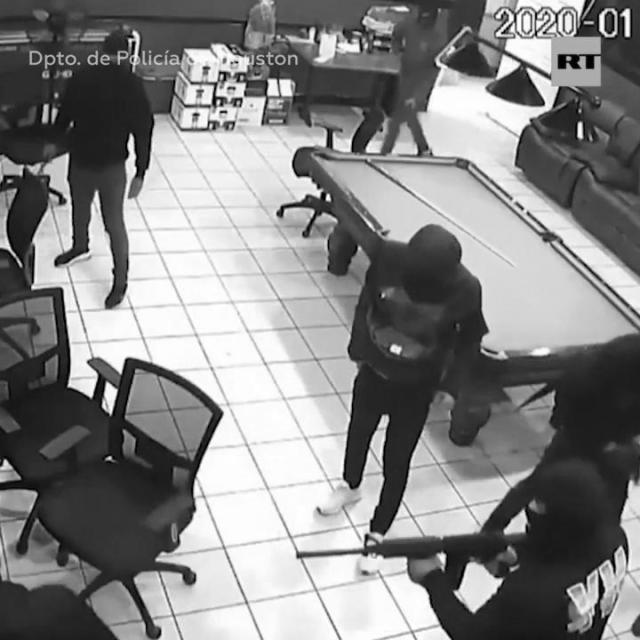weapon: (284, 512, 539, 606)
